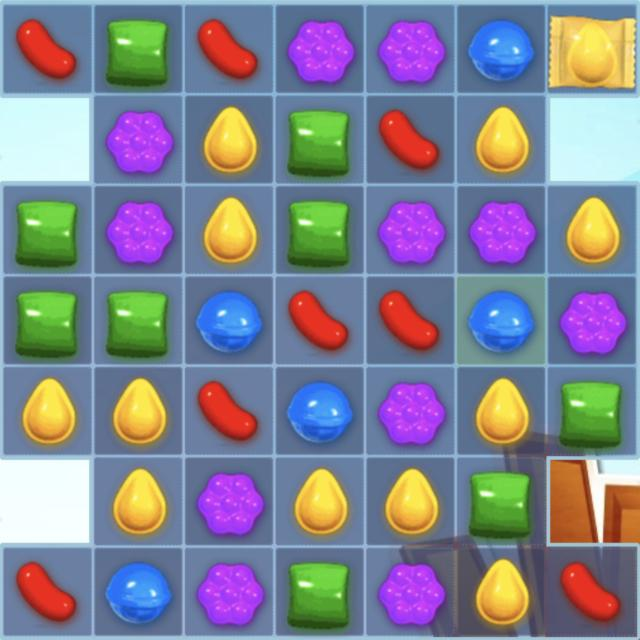blue: (94, 546, 184, 639), (458, 0, 546, 94), (457, 276, 547, 366), (276, 366, 365, 456), (185, 275, 273, 366)
green: (2, 184, 93, 277), (547, 365, 637, 458), (276, 546, 365, 639), (94, 275, 184, 366), (95, 2, 184, 94), (275, 94, 365, 184), (276, 184, 364, 275), (2, 278, 93, 366), (457, 457, 545, 547)
purple: (365, 2, 456, 95), (366, 184, 456, 276), (276, 1, 364, 95), (456, 186, 547, 276), (185, 456, 275, 546), (367, 367, 456, 457), (366, 546, 455, 635), (94, 94, 182, 184), (96, 185, 183, 276), (186, 546, 272, 638), (548, 276, 636, 364)
red: (364, 95, 457, 188), (1, 545, 94, 638), (2, 2, 94, 96), (183, 2, 275, 95), (548, 546, 638, 638), (366, 275, 455, 368), (184, 366, 275, 456), (276, 276, 364, 366)
yellow: (548, 1, 640, 94), (2, 366, 95, 457), (184, 186, 276, 276), (456, 367, 546, 458), (93, 366, 184, 456), (94, 456, 185, 546), (183, 96, 275, 185), (458, 94, 546, 185), (368, 456, 456, 547), (276, 457, 364, 546), (549, 186, 637, 274), (459, 549, 545, 636)
